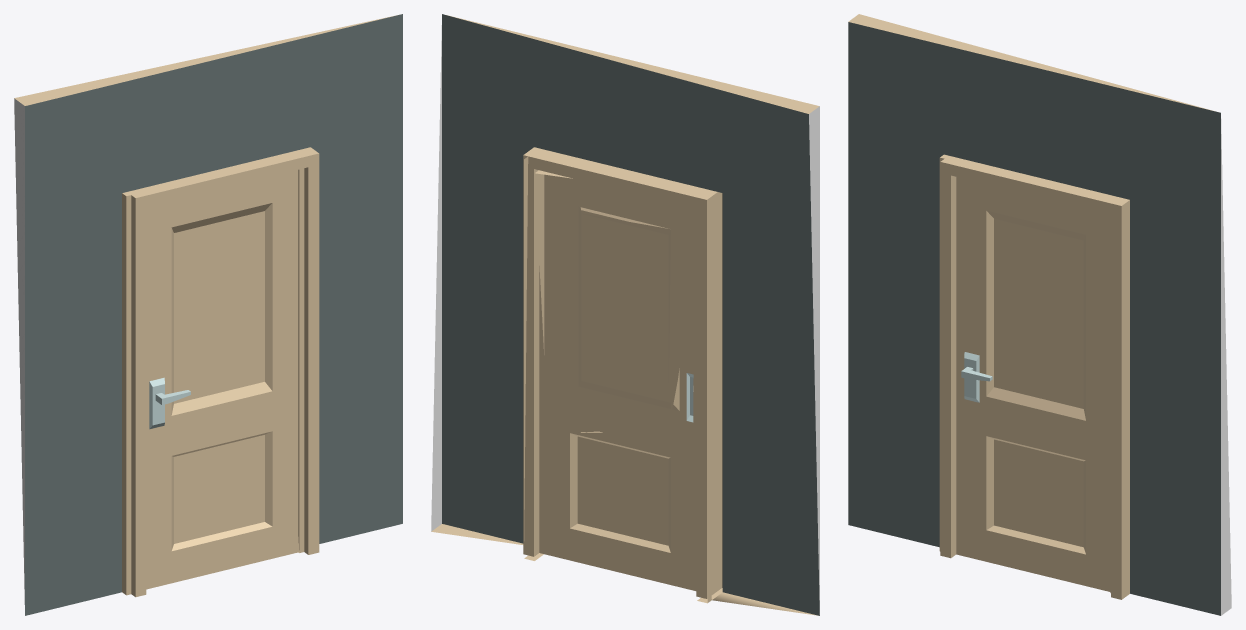
The model's file is DoorWall.dae.
3 views of the same model, side by side, from view 1: azimuth 30°, elevation 25°; view 2: azimuth 150°, elevation 25°; view 3: azimuth 330°, elevation 25° (orthographic).
Parts seen in each view (by area): view 1: WallWithDoor; view 2: WallWithDoor; view 3: WallWithDoor.
Part boxes in pixels (<box>): WallWithDoor: <box>14,14,402,615</box>; WallWithDoor: <box>431,14,819,615</box>; WallWithDoor: <box>848,14,1231,615</box>.
Bounding box in the file's own units: 10 × 1.21 × 12.9.
